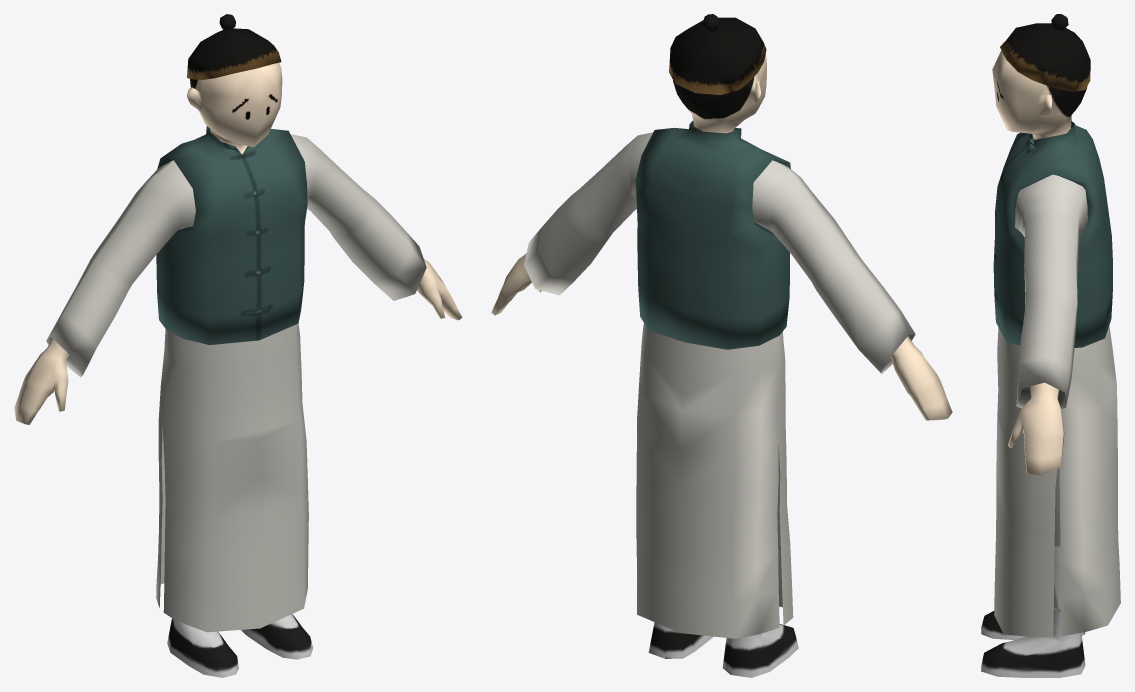
Rendered from ShopManNPC.fbx.
The picture shows the model from 3 angles, left to right: view 1: azimuth 30°, elevation 25°; view 2: azimuth 150°, elevation 25°; view 3: azimuth 270°, elevation 25°; orthographic projection. The views are drawn at different scales.
Parts seen in each view (by area): view 1: Long, Cloth.001, Inner1.001, Head, Foot, Hands, Hat; view 2: Long, Cloth.001, Inner1.001, Hat, Foot, Hands, Head; view 3: Long, Cloth.001, Inner1.001, Foot, Hat, Head, Hands.
Boxes of the visible parts, x1,y1,x2,y2 form: Long: [156, 323, 308, 632]; Cloth.001: [156, 126, 307, 344]; Inner1.001: [46, 134, 426, 377]; Head: [187, 62, 282, 154]; Foot: [167, 614, 312, 677]; Hands: [14, 259, 462, 424]; Hat: [187, 14, 281, 79]; Long: [636, 323, 793, 638]; Cloth.001: [635, 121, 790, 349]; Inner1.001: [524, 132, 915, 373]; Hat: [669, 14, 766, 94]; Foot: [648, 622, 798, 677]; Hands: [491, 253, 952, 420]; Head: [669, 54, 766, 133]; Long: [994, 326, 1120, 637]; Cloth.001: [993, 121, 1112, 347]; Inner1.001: [1015, 174, 1087, 409]; Foot: [981, 468, 1085, 677]; Hat: [1000, 14, 1090, 91]; Head: [992, 50, 1087, 139]; Hands: [1008, 382, 1064, 475].
Size of the model in its own units: 129 by 174 by 34.67.
1 material, 1 textured.
